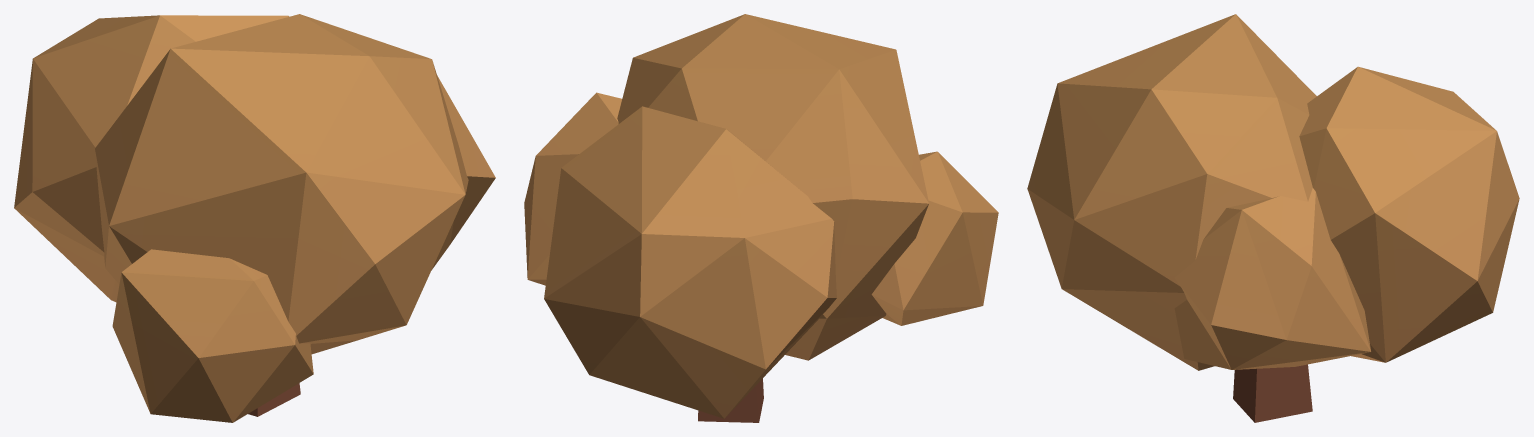
Rendered from Bush_6_gradient_yellow_vc.fbx.
3 views of the same model, side by side, from view 1: azimuth 30°, elevation 25°; view 2: azimuth 150°, elevation 25°; view 3: azimuth 270°, elevation 25° (orthographic). The views are drawn at different scales.
Visible parts, largest first — view 1: Bush_6_gradient_yellow_vc; view 2: Bush_6_gradient_yellow_vc; view 3: Bush_6_gradient_yellow_vc.
Part boxes in pixels (bbox=[...]): Bush_6_gradient_yellow_vc: bbox=[14, 14, 495, 422]; Bush_6_gradient_yellow_vc: bbox=[524, 14, 998, 422]; Bush_6_gradient_yellow_vc: bbox=[1027, 14, 1519, 422].
Size of the model in its own units: 30.85 by 27.54 by 35.35.
